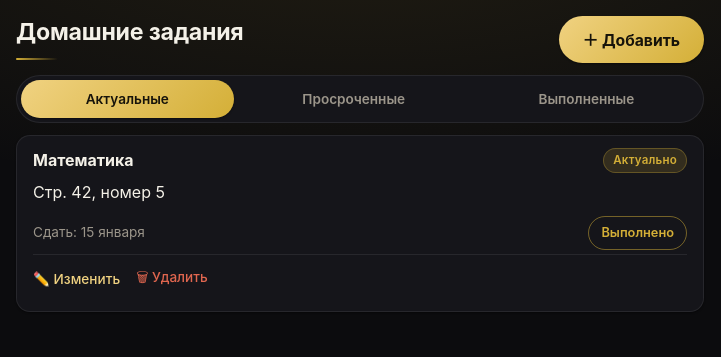
Scenario: homework editing › cancelling the confirmation deletes nothing
Click the button "🗑 Удалить": (172, 279) top-left (136, 259), bottom-right (208, 299)
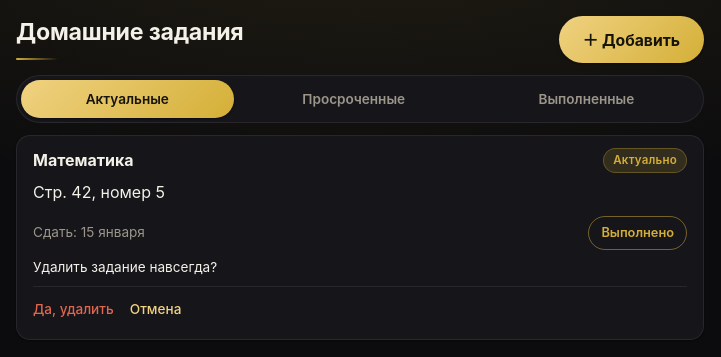
Click the button "Отмена": (156, 309) top-left (130, 291), bottom-right (181, 327)
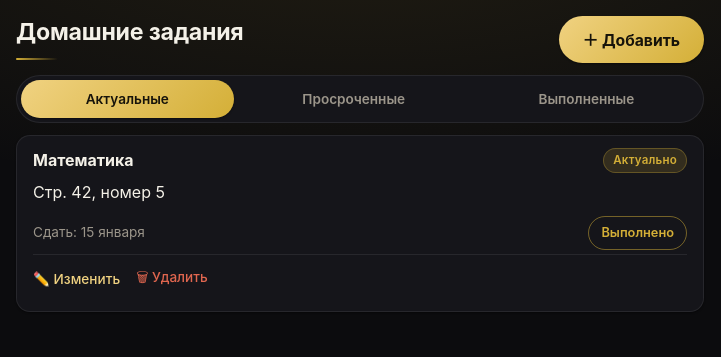
Check: the text "Удалить задание навсегда?" is gone
